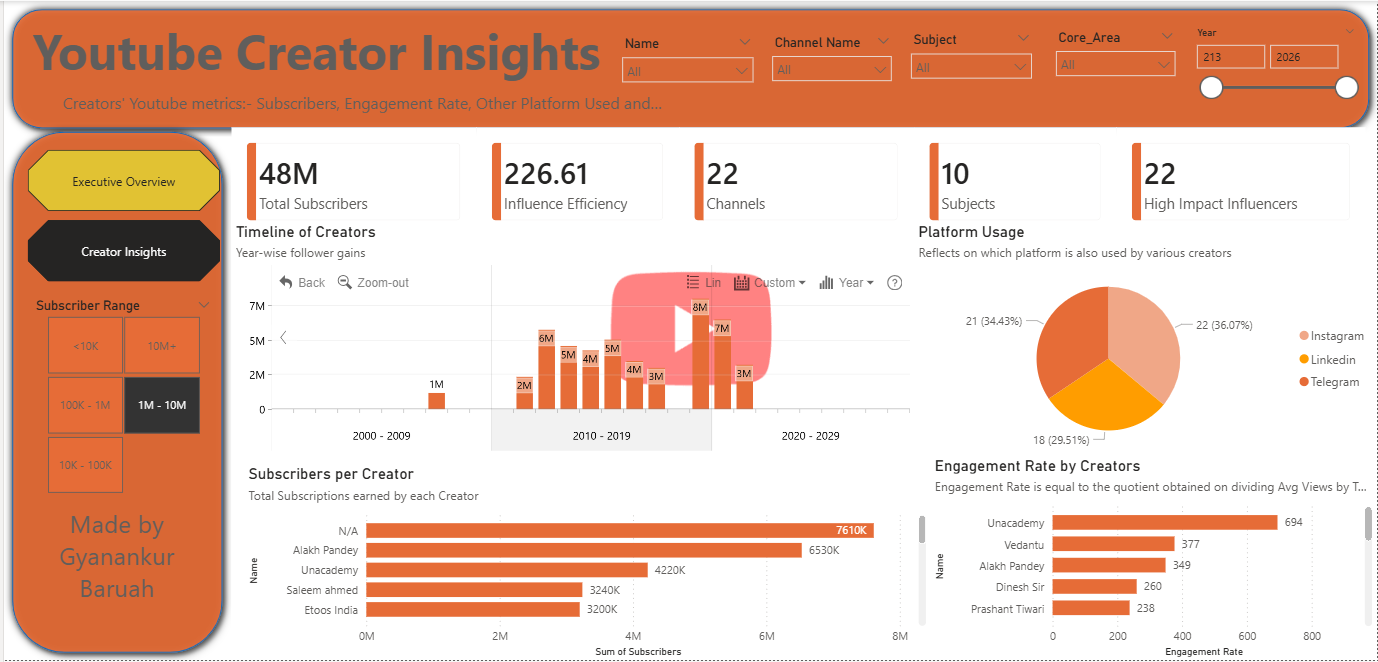

Layout of this report page (visuals, bound fields, positions):
{"tool":"powerbi","page":{"name":"Creator Insights","canvas":[1500,720],"ordinal":1},"visuals":[{"type":"shape","box":[0,0,1500,148],"z":0},{"type":"shape","box":[0,133.5,247.6,586.9],"z":1000},{"type":"cardVisual","fields":{"Data":["Measures (2).Influence Efficiency"]},"box":[516,138.2,221.3,119.8],"z":2000},{"type":"slicer","fields":{"Values":["Sheet1.Channel_Start_Date.Variation.Date Hierarchy.Year"]},"box":[1289.9,22.6,197.4,86],"z":3000},{"type":"cardVisual","fields":{"Data":["Measures (2).High Impact Influencers"]},"box":[1215.2,138.2,272.1,119.8],"z":4000},{"type":"cardVisual","fields":{"Data":["Count(Sheet1.Subject)"]},"box":[993.9,138.2,221.3,119.8],"z":5000},{"type":"cardVisual","fields":{"Data":["Count(Sheet1.Channel Name)"]},"box":[737.3,138.2,256.6,119.8],"z":6000},{"type":"barChart","title":"Subscribers per Creator","fields":{"Category":["Sheet1.Name"],"Y":["Sum(Sheet1.Follower/Subscriber_count)"]},"box":[262.2,506.1,750,214.3],"z":7000},{"type":"pageNavigator","box":[26.5,162.8,210.4,144.2],"z":8000},{"type":"slicer","fields":{"Values":["Sheet1.Subject"]},"box":[979.8,28.2,152.3,66.3],"z":9000},{"type":"slicer","fields":{"Values":["Sheet1.Channel Name"]},"box":[828.9,31,150.8,70.5],"z":10000},{"type":"slicer","fields":{"Values":["Sheet1.Name"]},"box":[665.4,32.4,163.5,62],"z":11000},{"type":"actionButton","box":[26.8,14.1,638.6,80.4],"z":12000},{"type":"cardVisual","fields":{"Data":["Sum(Sheet1.Follower/Subscriber_count)"]},"box":[248.1,138.2,267.9,119.8],"z":13000},{"type":"slicer","fields":{"Values":["Sheet1.Core_Area"]},"box":[1139.1,25.4,150.8,70.5],"z":14000},{"type":"pieChart","title":"Platform Usage","fields":{"Y":["CountNonNull(Sheet1.Instagram)","CountNonNull(Sheet1.LinedIn)","CountNonNull(Sheet1.Telegram)"]},"box":[993.9,241.1,506.1,255.2],"z":15000},{"type":"clusteredBarChart","title":"Engagement Rate by Creators","fields":{"Category":["Sheet1.Name"],"Y":["Measures (2).Engagement Rate"]},"box":[1012.2,496.2,487.8,224.2],"z":16000},{"type":"ZoomChartsDrillDownTimelinePro7F6C01BA1C534E9AB4A6BCCB44F591","title":"Timeline of Creators","fields":{"Values1":["Measures (2).Total Followers"],"DateValue":["Min(Sheet1.Channel_Start_Date)"],"Category":["Sheet1.Channel_Start_Date.Variation.Date Hierarchy.Year","Sheet1.Channel_Start_Date.Variation.Date Hierarchy.Quarter","Sheet1.Channel_Start_Date.Variation.Date Hierarchy.Month","Sheet1.Channel_Start_Date.Variation.Date Hierarchy.Day"]},"box":[248.1,241.1,745.8,255.2],"z":17000},{"type":"actionButton","box":[21.1,521.6,205.8,166.4],"z":18000},{"type":"actionButton","box":[32.4,90.2,704.9,42.3],"z":19000},{"type":"slicer","fields":{"Values":["Sheet1.Subscriber Range"]},"box":[21.2,318.9,215.7,224.9],"z":20000}]}

Visuals, with their boxes in screenshot pixels (x1, y1, x2, y2), scaled from the page's 1500x720 canvas onto the 1378x662 screenshot:
shape: box=[0, 0, 1377, 136]
shape: box=[0, 123, 227, 661]
cardVisual - Measures (2).Influence Efficiency: box=[474, 127, 677, 237]
slicer - Sheet1.Channel_Start_Date.Variation.Date Hierarchy.Year: box=[1185, 21, 1366, 100]
cardVisual - Measures (2).High Impact Influencers: box=[1116, 127, 1366, 237]
cardVisual - Count(Sheet1.Subject): box=[913, 127, 1116, 237]
cardVisual - Count(Sheet1.Channel Name): box=[677, 127, 913, 237]
"Subscribers per Creator" barChart: box=[241, 465, 930, 661]
pageNavigator: box=[24, 150, 218, 282]
slicer - Sheet1.Subject: box=[900, 26, 1040, 87]
slicer - Sheet1.Channel Name: box=[761, 29, 900, 93]
slicer - Sheet1.Name: box=[611, 30, 761, 87]
actionButton: box=[25, 13, 611, 87]
cardVisual - Sum(Sheet1.Follower/Subscriber_count): box=[228, 127, 474, 237]
slicer - Sheet1.Core_Area: box=[1046, 23, 1185, 88]
"Platform Usage" pieChart: box=[913, 222, 1377, 456]
"Engagement Rate by Creators" clusteredBarChart: box=[930, 456, 1377, 661]
"Timeline of Creators" ZoomChartsDrillDownTimelinePro7F6C01BA1C534E9AB4A6BCCB44F591: box=[228, 222, 913, 456]
actionButton: box=[19, 480, 208, 633]
actionButton: box=[30, 83, 677, 122]
slicer - Sheet1.Subscriber Range: box=[19, 293, 218, 500]
